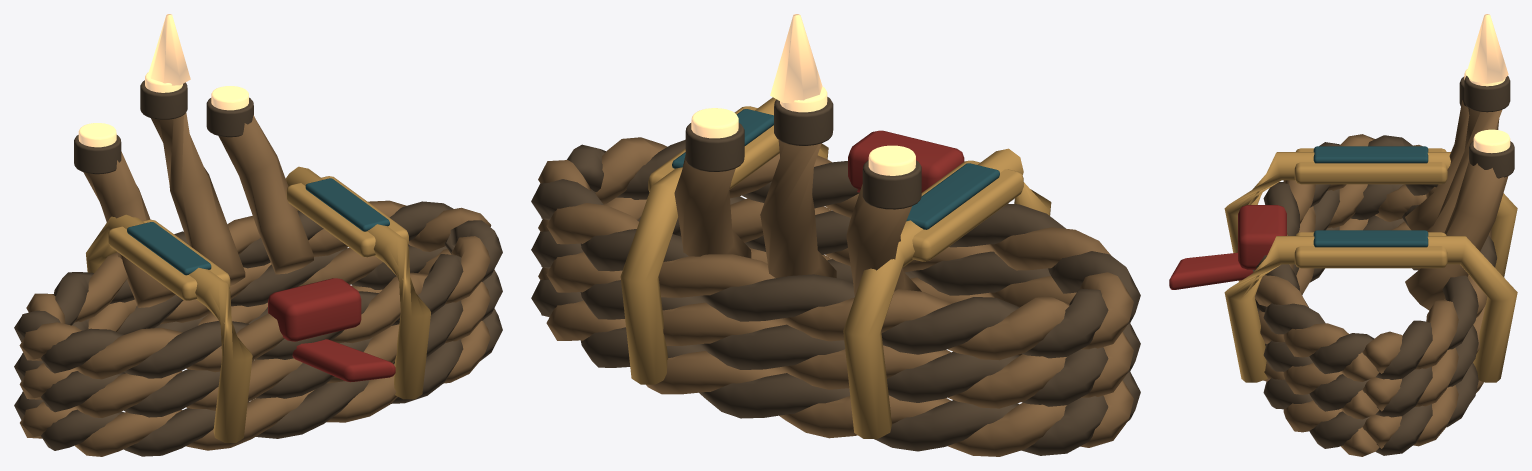
The model's file is bundled_fuse.glb.
The picture shows the model from 3 angles, left to right: view 1: azimuth 30°, elevation 25°; view 2: azimuth 150°, elevation 25°; view 3: azimuth 270°, elevation 25°; orthographic projection. The views are drawn at different scales.
Visible parts, largest first — view 1: SM_bundled_fuse; view 2: SM_bundled_fuse; view 3: SM_bundled_fuse.
Part boxes in pixels (x1,y1,x2,y2): SM_bundled_fuse: (14,14,502,456); SM_bundled_fuse: (531,14,1140,456); SM_bundled_fuse: (1169,14,1517,456).
Bounding box in the file's own units: 0.3422 × 0.2346 × 0.2279.
